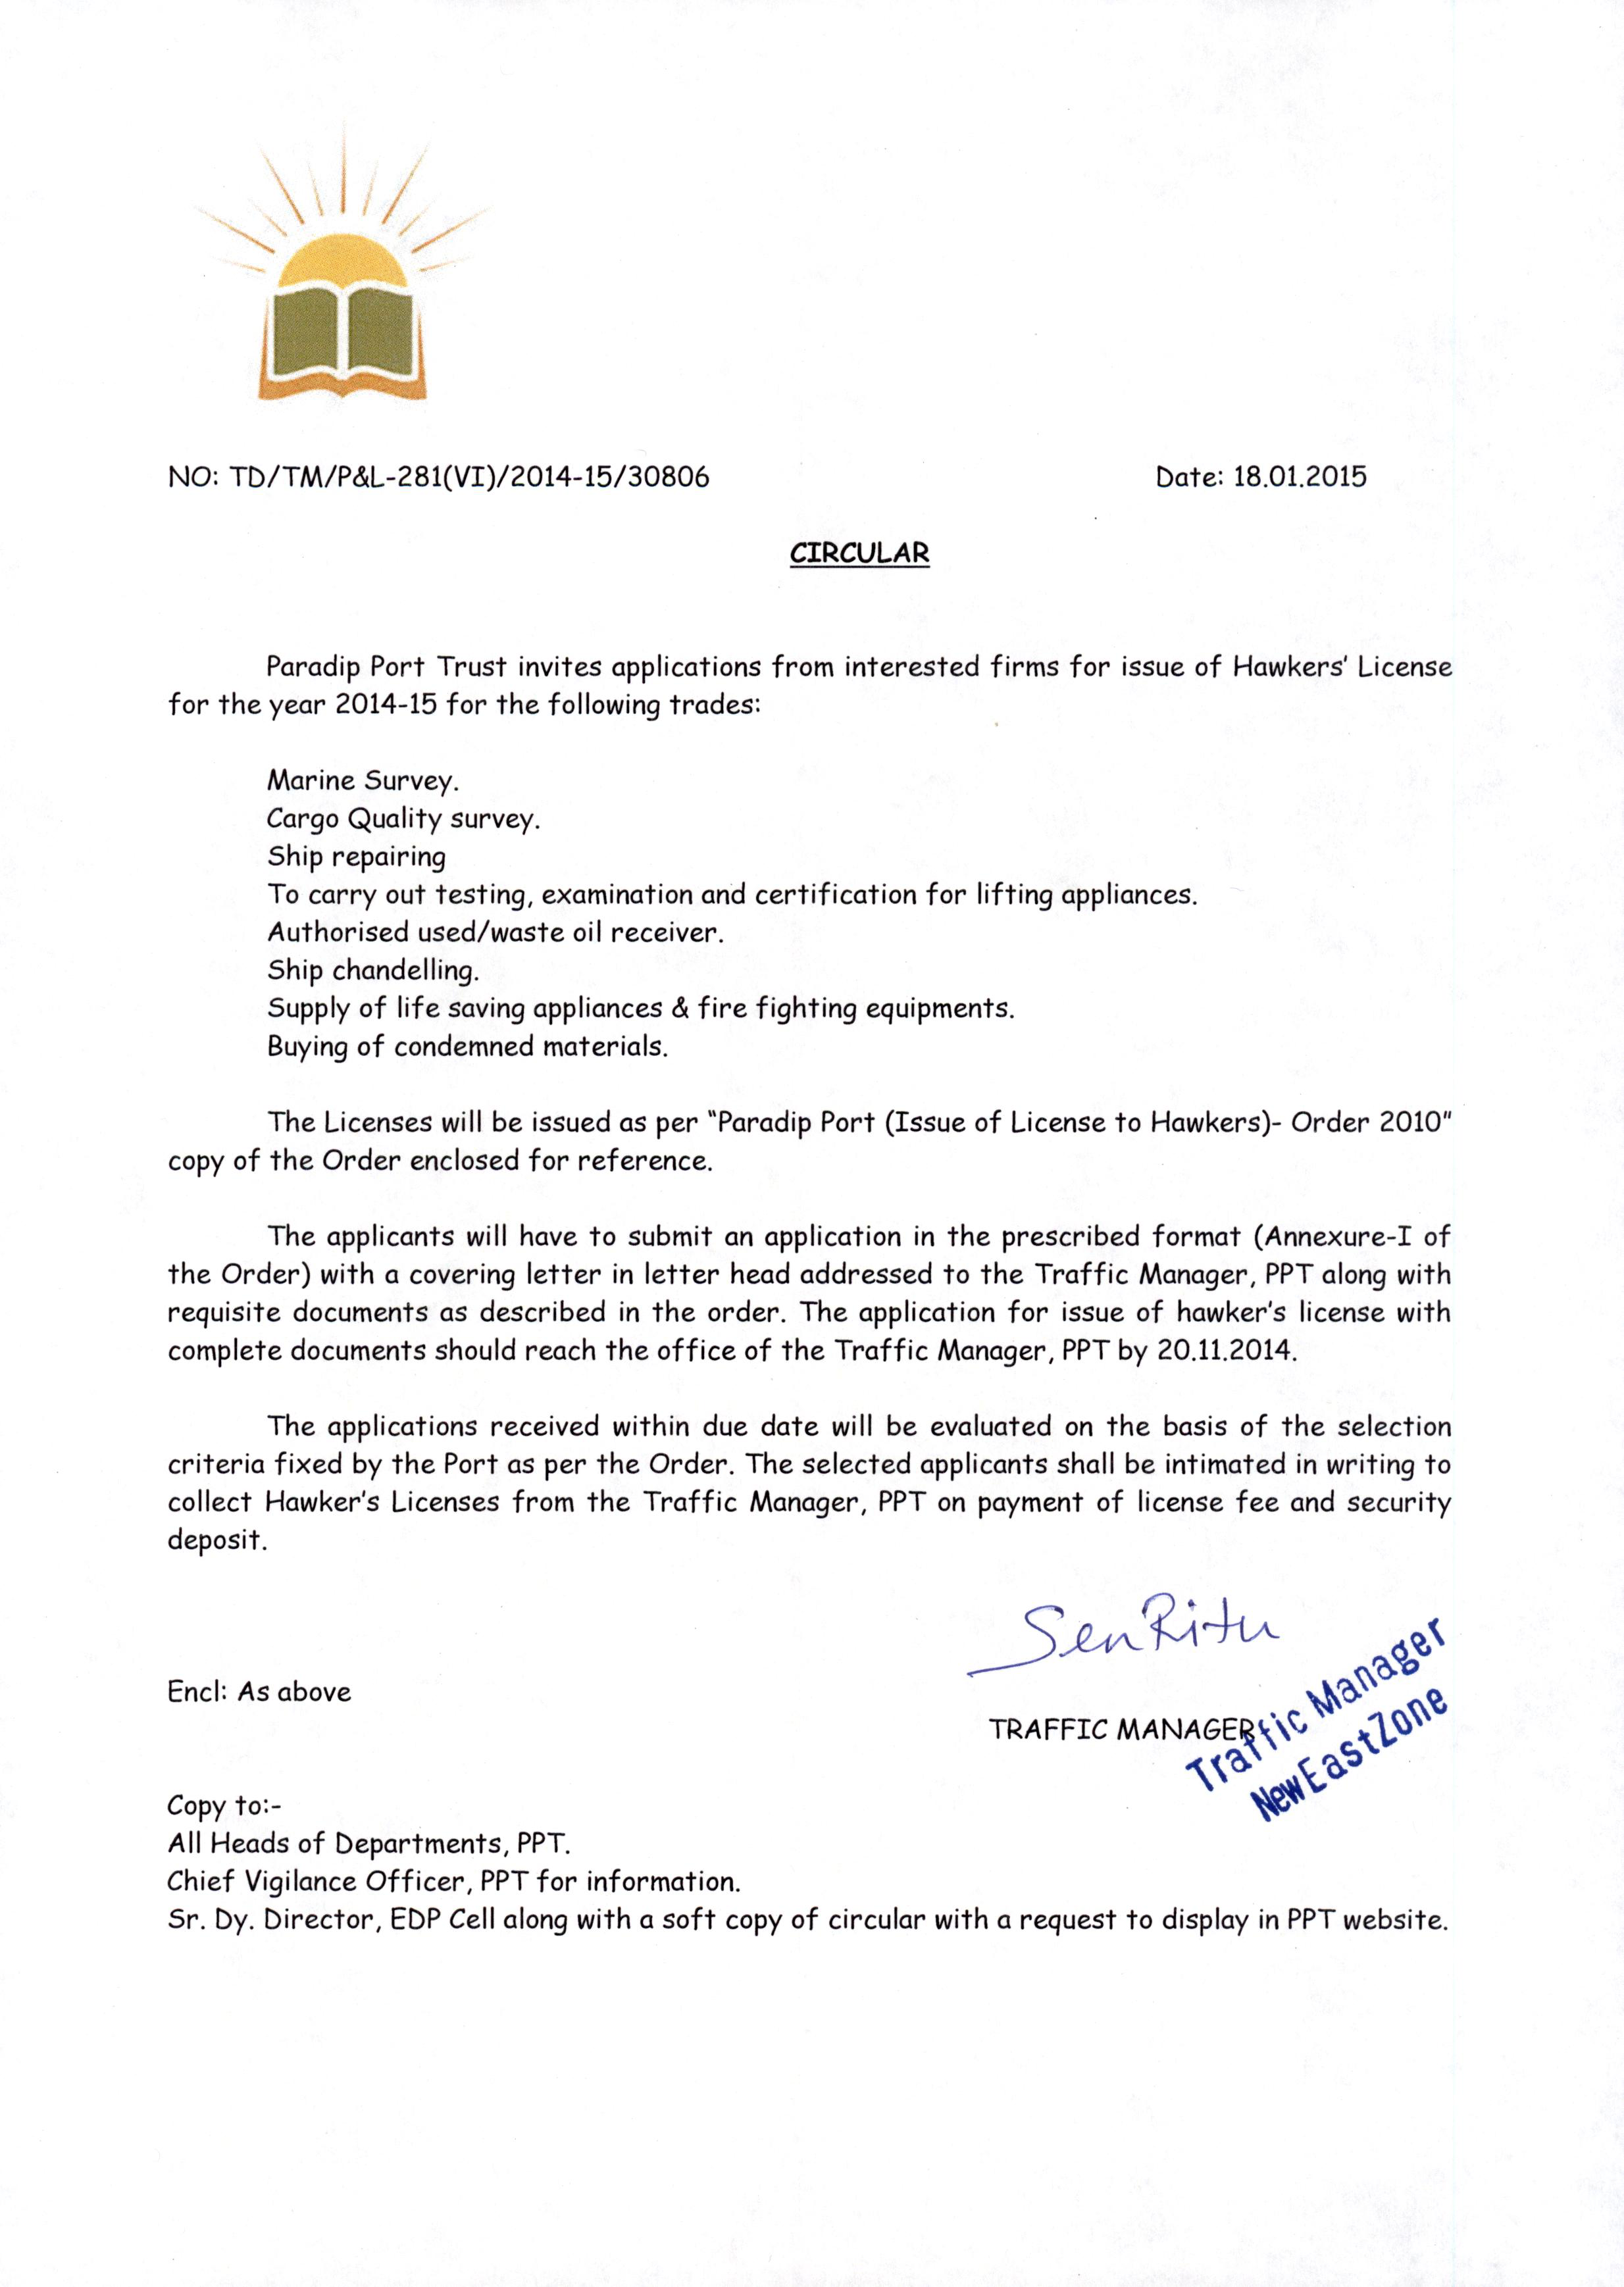Signature: (956, 1579, 1287, 1681)
